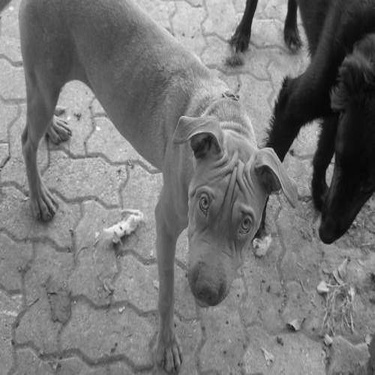dog: (3, 2, 299, 369), (223, 1, 369, 258)
